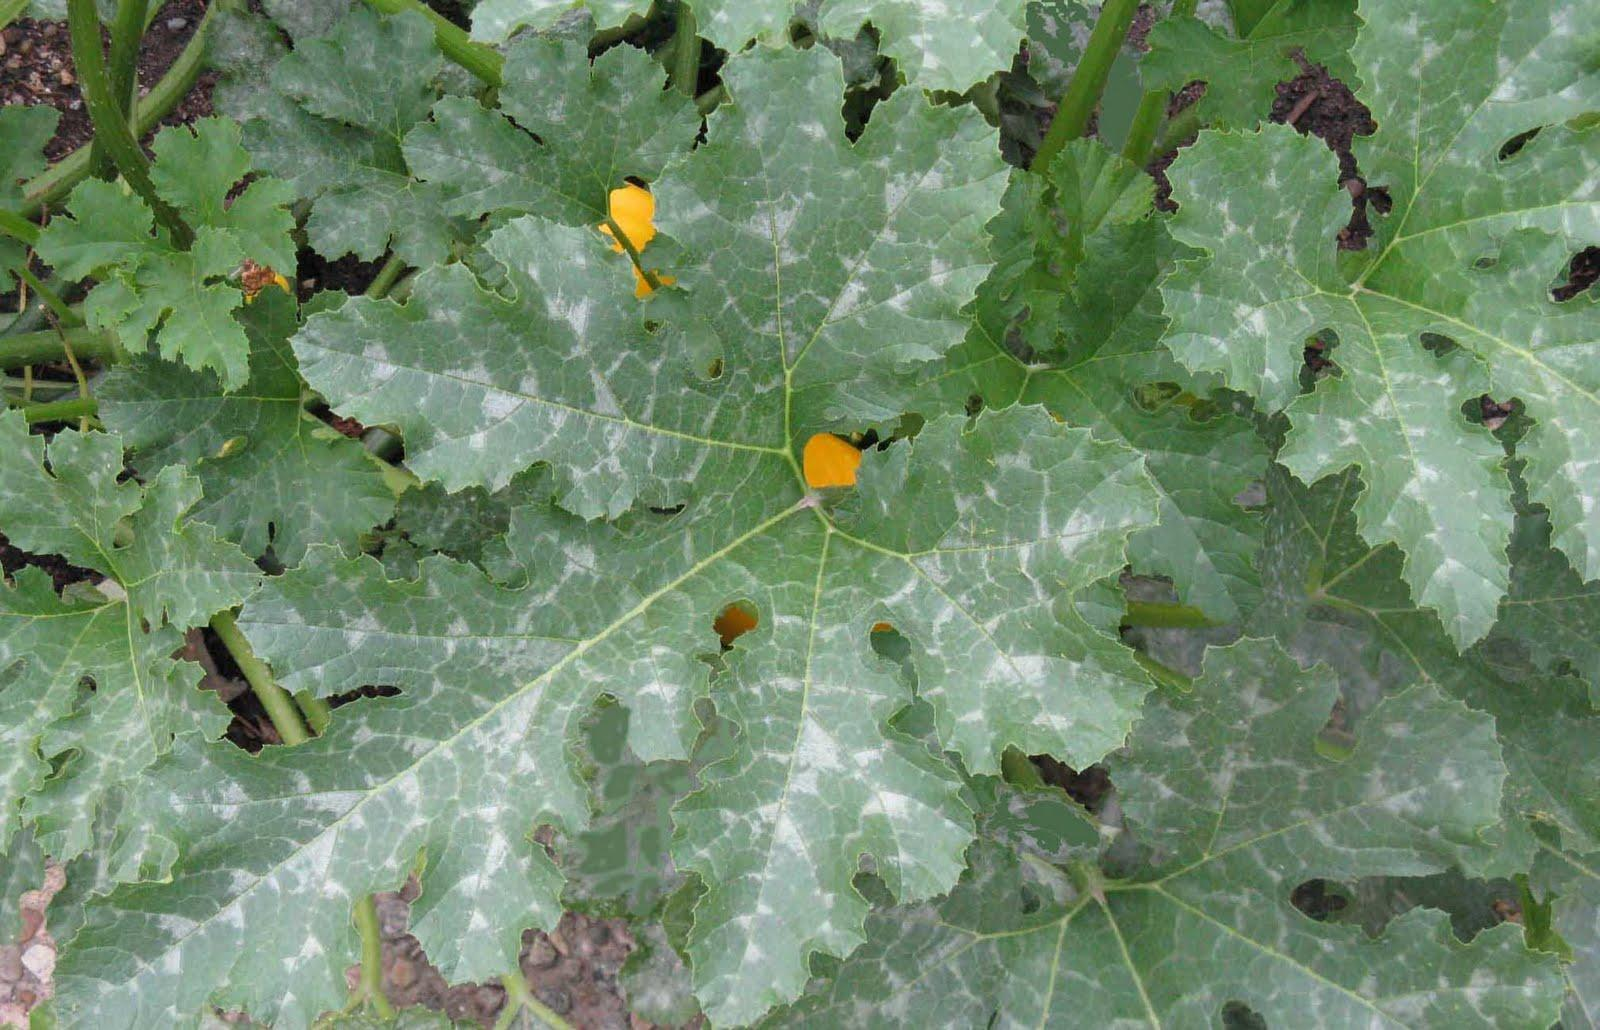Squash Powdery mildew leaf: (10, 447, 841, 1030), (255, 241, 820, 539), (658, 34, 1003, 427), (824, 384, 1136, 766)
